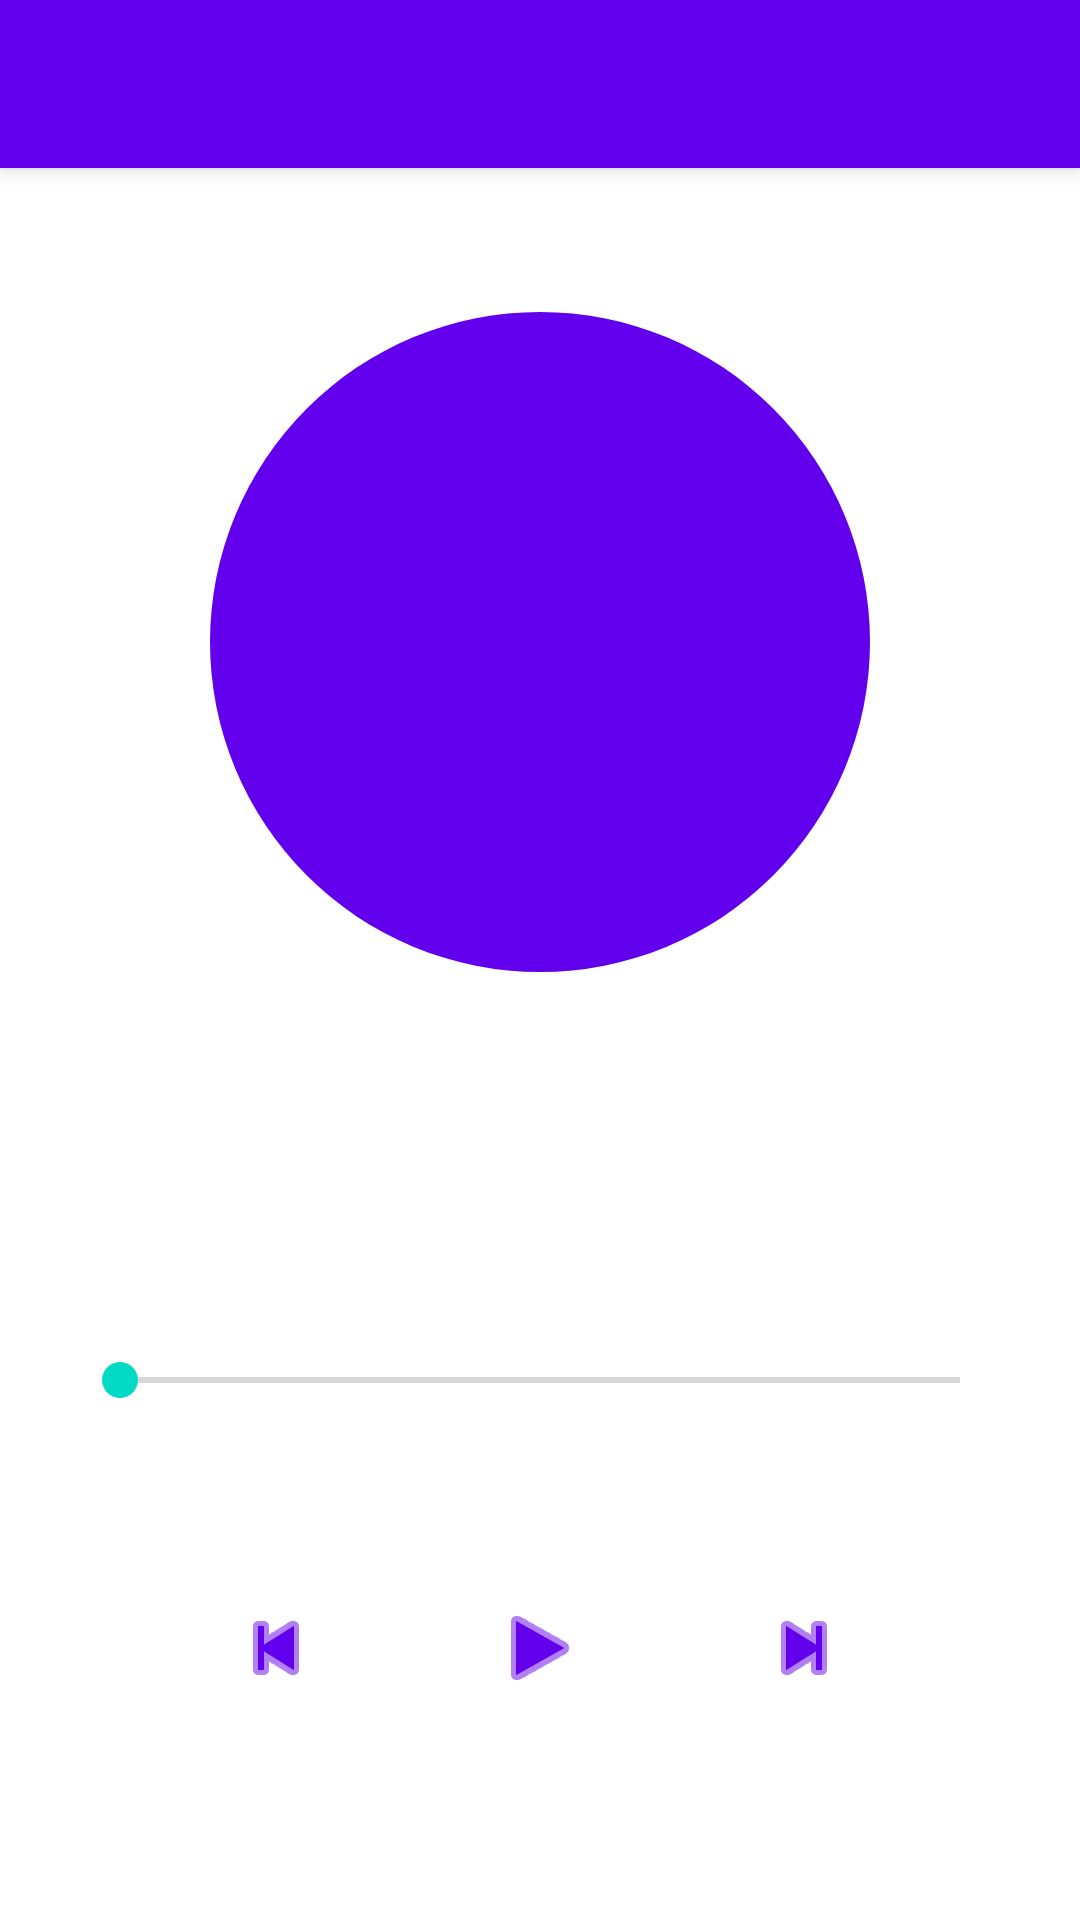

Screen size 1080×1920. Icon name, then its center in pixels as (x,y):
Canción anterior: (276,1648)
Reproducir / Pausar: (540,1648)
Siguiente canción: (804,1648)
